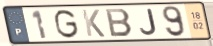1: (31, 9, 49, 40)
9: (161, 5, 187, 38)
B: (104, 7, 135, 38)
G: (53, 8, 81, 40)
J: (138, 8, 159, 37)
K: (80, 8, 107, 38)
